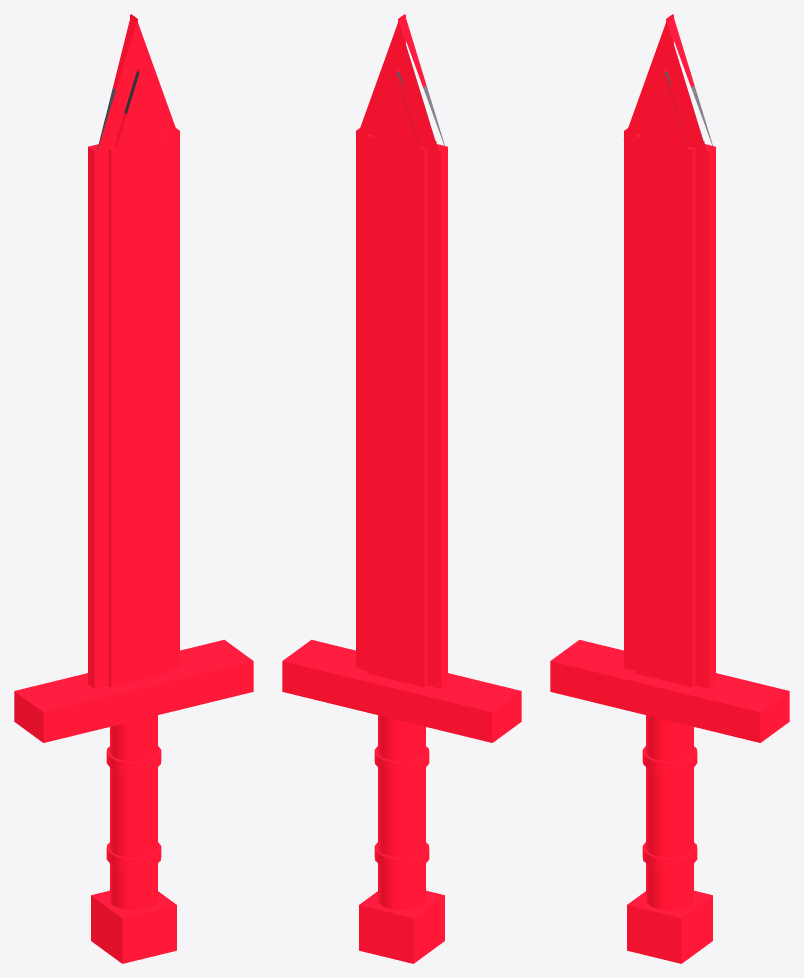
The picture shows the model from 3 angles, left to right: view 1: azimuth 30°, elevation 25°; view 2: azimuth 150°, elevation 25°; view 3: azimuth 330°, elevation 25°; orthographic projection.
Visible parts, largest first — view 1: weapon-bloodsteel; view 2: weapon-bloodsteel; view 3: weapon-bloodsteel.
Boxes of the visible parts, left/top/right/bottom form: weapon-bloodsteel: left=14, top=14, right=253, bottom=963; weapon-bloodsteel: left=282, top=14, right=521, bottom=963; weapon-bloodsteel: left=550, top=14, right=789, bottom=963.
Bounding box in the file's own units: 0.2024 × 0.8551 × 0.0526.
